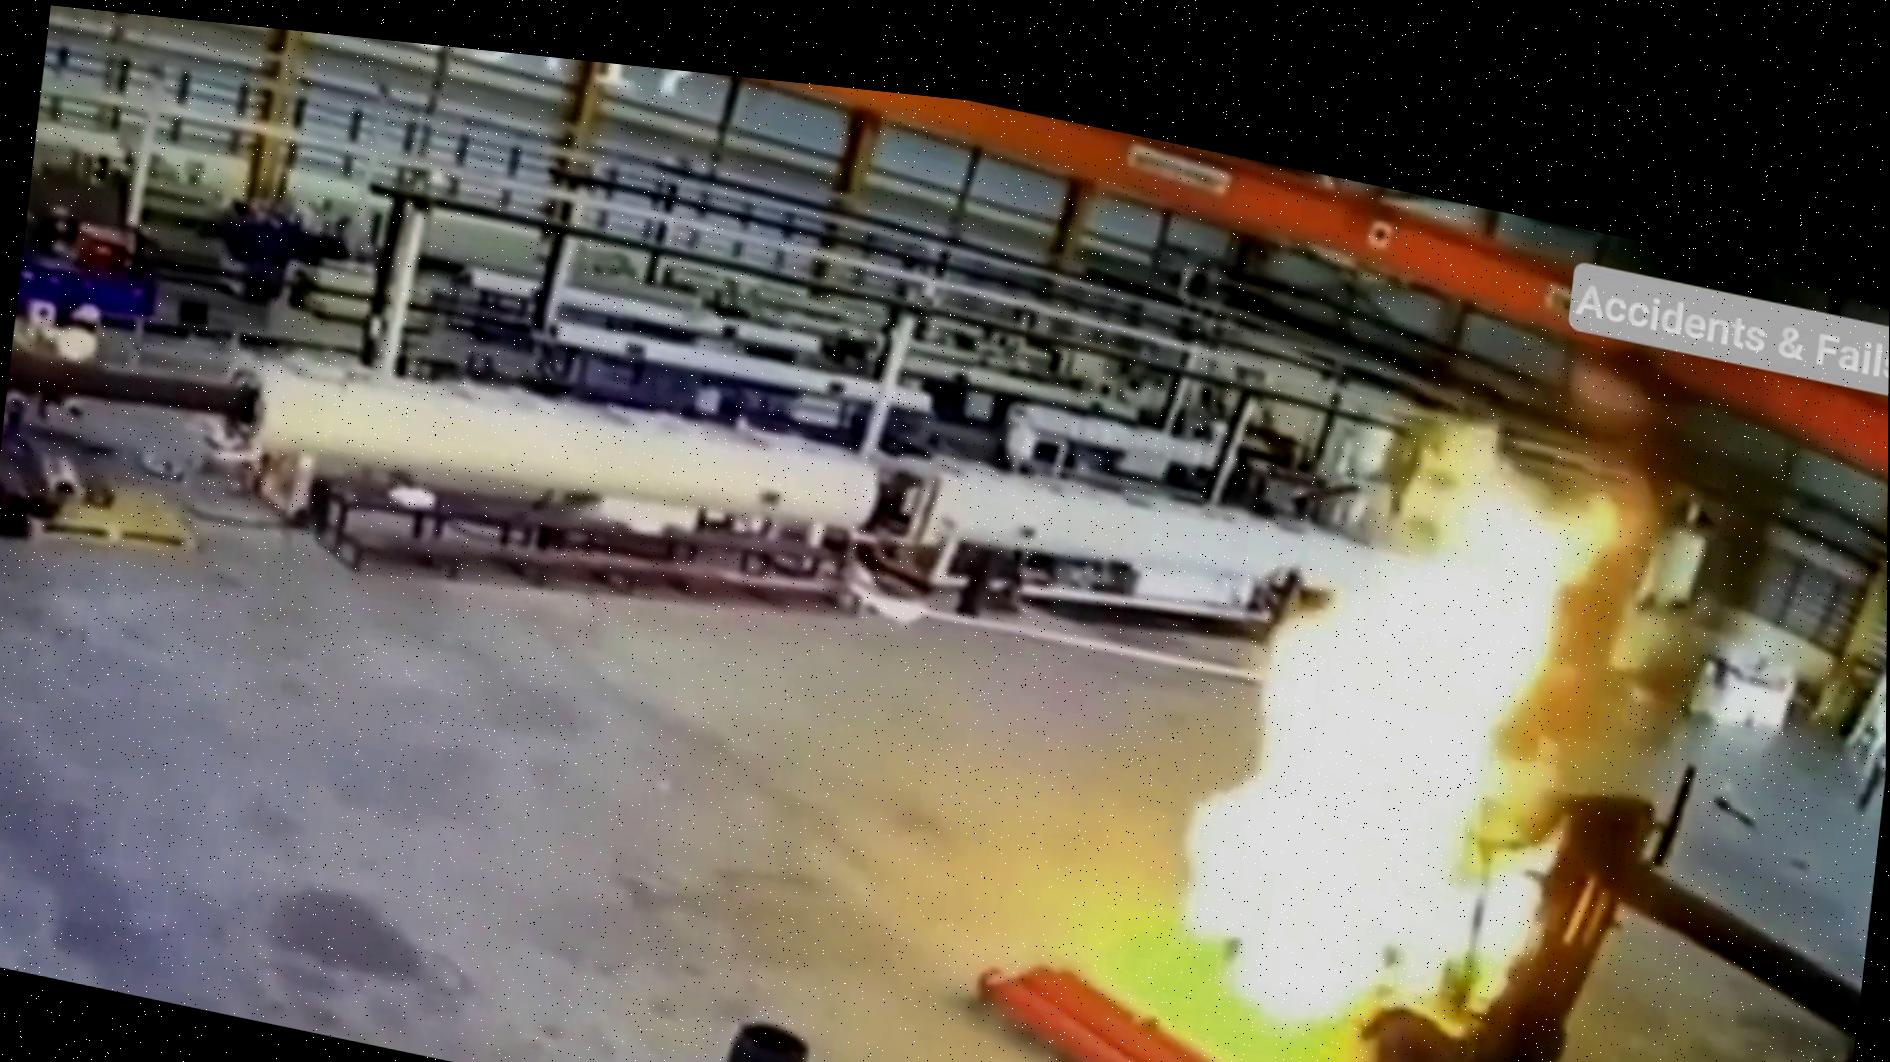fire: (1020, 106, 1700, 1062)
